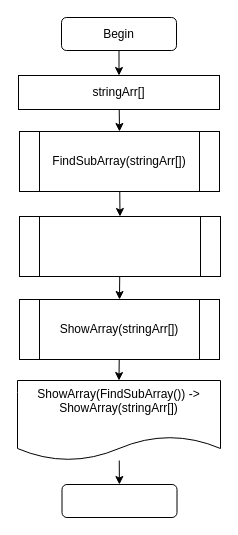
The diagram is 238 pixels wide and 535 high, and some of its shapes have lost their labels. The box of each missing label's shape, as (x1, y1, x2, y2) in pixels:
End: (61, 484, 177, 518)
ShowArray(FindSubArray()): (18, 216, 220, 276)
